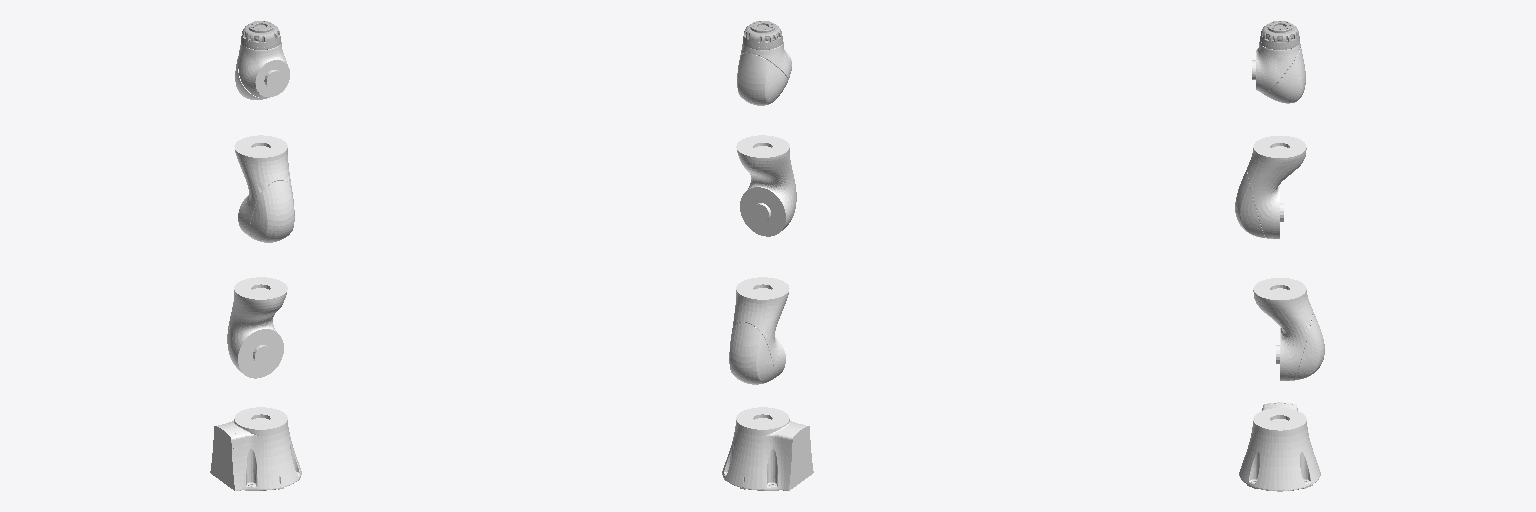
robot.urdf — iiwa7_3:
<?xml version="1.0" ?>
<!-- =================================================================================== -->
<!-- |    This document was autogenerated by xacro from iiwa7.urdf.xacro               | -->
<!-- |    EDITING THIS FILE BY HAND IS NOT RECOMMENDED                                 | -->
<!-- =================================================================================== -->
<robot name="iiwa7_3" xmlns:xacro="http://www.ros.org/wiki/xacro">
  <!-- Import Rviz colors -->
  <material name="Black">
    <color rgba="0.0 0.0 0.0 1.0"/>
  </material>
  <material name="Blue">
    <color rgba="0.0 0.0 0.8 1.0"/>
  </material>
  <material name="Green">
    <color rgba="0.0 0.8 0.0 1.0"/>
  </material>
  <material name="Grey">
    <color rgba="0.4 0.4 0.4 1.0"/>
  </material>
  <material name="Glas">
    <color rgba="0.4 0.4 0.4 0.1"/>
  </material>
  <material name="Orange">
    <color rgba="1.0 0.423529411765 0.0392156862745 1.0"/>
  </material>
  <material name="Brown">
    <color rgba="0.870588235294 0.811764705882 0.764705882353 1.0"/>
  </material>
  <material name="Red">
    <color rgba="0.8 0.0 0.0 1.0"/>
  </material>
  <material name="White">
    <color rgba="1.0 1.0 1.0 1.0"/>
  </material>
  <material name="Silver">
    <color rgba="0.82 0.82 0.82 1.0"/>
  </material>


  <link name="iiwa_link_0">
    <visual>
      <origin rpy="0 0 0" xyz="0 0 0"/>
      <geometry>
        <mesh filename="meshes/iiwa7_third/visual/link_0.obj"/>
      </geometry>
      <material name="White"/>
    </visual>
  </link>
  <!-- joint between link_0 and link_1 -->
  <joint name="iiwa_joint_1" type="fixed">
    <parent link="iiwa_link_0"/>
    <child link="iiwa_link_1"/>
    <origin rpy="0 0 0" xyz="0 0 0.15"/>
    <axis xyz="0 0 1"/>
  </joint>
  <link name="iiwa_link_1">
    <visual>
      <origin rpy="0 0 0" xyz="0 0 0.0075"/>
      <geometry>
        <mesh filename="meshes/iiwa7_third/visual/link_1.obj"/>
      </geometry>
      <material name="White"/>
    </visual>
  </link>
  <joint name="iiwa_joint_2" type="fixed">
    <parent link="iiwa_link_1"/>
    <child link="iiwa_link_2"/>
    <origin rpy="1.57079632679   0 3.14159265359" xyz="0 0 0.19"/>
    <axis xyz="0 0 1"/>
  </joint>
  <link name="iiwa_link_2">

    <visual>
      <origin rpy="0 0 0" xyz="0 0 0"/>
      <geometry>
        <mesh filename="meshes/iiwa7_third/visual/link_2.obj"/>
      </geometry>
      <material name="White"/>
    </visual>
  </link>
  <joint name="iiwa_joint_3" type="fixed">
    <parent link="iiwa_link_2"/>
    <child link="iiwa_link_3"/>
    <origin rpy="1.57079632679 0 3.14159265359" xyz="0 0.21 0"/>
    <axis xyz="0 0 1"/>

  </joint>
  <link name="iiwa_link_3">
 
    <visual>
      <origin rpy="0 0 0" xyz="0 -0.00 -0.026"/>
      <geometry>
        <mesh filename="meshes/iiwa7_third/visual/link_3.obj"/>
      </geometry>
      <material name="White"/>
    </visual>
  </link>
  <joint name="iiwa_joint_4" type="fixed">
    <parent link="iiwa_link_3"/>
    <child link="iiwa_link_4"/>
    <origin rpy="1.57079632679 0 0" xyz="0 0 0.19"/>
    <axis xyz="0 0 1"/>

  </joint>
  <link name="iiwa_link_4">

    <visual>
      <origin rpy="0 0 0" xyz="0 0 0"/>
      <geometry>
        <mesh filename="meshes/iiwa7_third/visual/link_4.obj"/>
      </geometry>
      <material name="White"/>
    </visual>
  </link>
  <joint name="iiwa_joint_5" type="fixed">
    <parent link="iiwa_link_4"/>
    <child link="iiwa_link_5"/>
    <origin rpy="-1.57079632679 3.14159265359 0" xyz="0 0.21 0"/>
    <axis xyz="0 0 1"/>

  </joint>
  <link name="iiwa_link_5">
    <visual>
      <origin rpy="0 0 0" xyz="0 0 -0.026"/>
      <geometry>
        <mesh filename="meshes/iiwa7_third/visual/link_5.obj"/>
      </geometry>
      <material name="White"/>
    </visual>
  </link>
  <joint name="iiwa_joint_6" type="fixed">
    <parent link="iiwa_link_5"/>
    <child link="iiwa_link_6"/>
    <origin rpy="1.57079632679 0 0" xyz="0 0.06070 0.19"/>
    <axis xyz="0 0 1"/>

  </joint>
  <link name="iiwa_link_6">
      <!-- <inertial>
        <origin rpy="0 0 0" xyz="0 0 0"/>
        <mass value="300"/>
        <inertia ixx="0.02" ixy="0" ixz="0" iyy="0.01" iyz="0" izz="0.01"/>
      </inertial> -->
    <visual>
      <origin rpy="0 0 0" xyz="0 0 0"/>
      <geometry>
        <mesh filename="meshes/iiwa7_third/visual/link_6.obj"/>
      </geometry>
      <material name="White"/>
    </visual>
  </link>
  <joint name="iiwa_joint_7" type="fixed">
    <parent link="iiwa_link_6"/>
    <child link="iiwa_link_7"/>
    <origin rpy="-1.57079632679 3.14159265359 0" xyz="0 0.081 0.06070"/>
    <axis xyz="0 0 1"/>
  </joint> 
  <link name="iiwa_link_7">
    <inertial>
      <origin rpy="0 0 0" xyz="0 0 0.02"/>
      <mass value="0.3"/>
      <inertia ixx="0.001" ixy="0" ixz="0" iyy="0.001" iyz="0" izz="0.001"/>
    </inertial>

    <visual>
      <origin rpy="0 0 0" xyz="0 0 -0.0005"/>
      <geometry>
        <mesh filename="meshes/iiwa7_third/visual/link_7.obj"/>
      </geometry>
      <material name="Silver"/>
    </visual>
  </link>
  <joint name="iiwa_joint_ee" type="fixed">
    <parent link="iiwa_link_7"/>
    <child link="iiwa_link_ee_kuka"/>
    <origin rpy="3.14159265359 3.14159265359 3.14159265359" xyz="0 0 0.045"/>
    <axis xyz="0 0 1"/>
  </joint>
  <link name="iiwa_link_ee_kuka">
  </link>
  <joint name="tool0_joint" type="fixed">
    <parent link="iiwa_link_7"/>
    <child link="iiwa_link_ee"/>
    <origin rpy="0 -1.57079632679 0" xyz="0 0 0.045"/>
  </joint>
  <link name="iiwa_link_ee">
  </link>
  <frame link="iiwa_link_ee" name="iiwa_frame_ee" 
      rpy="3.141592653589793 -1.570796326794897 0" xyz="0 0 0"/>  

  <!-- <joint name="kuka_connector_joint" type="fixed">
    <parent link="iiwa_link_ee_kuka"/>
    <child link="kuka_connector"/>
    <origin rpy="0 0 0" xyz="0 0 0.2"/>
  </joint>
  <link name="kuka_connector">
    <visual>
      <origin rpy="0 0 0" xyz="0 0 0"/>
      <geometry>
        <mesh filename="../meshes/iiwa7_third/visual/kuka_connector.obj"/>
      </geometry>
      <material name="Blue"/>
    </visual>
  </link> -->

  <joint name="wsg_grab_point_joint" type="fixed">
    <parent link="iiwa_link_7"/>
    <child link="wsg_grab_point"/>
    <origin rpy="0 0 3.141592653589793" xyz="0 0 0.2"/>
  </joint>
  <link name="wsg_grab_point">
  </link>

  <joint name="wsg_grab_point2_joint" type="fixed">
    <parent link="iiwa_link_7"/>
    <child link="wsg_grab_point2"/>
    <origin rpy="0 0 3.141592653589793" xyz="0 0 0.225"/>
  </joint>
  <link name="wsg_grab_point2">
    <!-- <visual>
      <origin xyz="0 0 0" rpy="0 0 0" />
      <geometry>
        <mesh filename="../meshes/iiwa7_third/visual/link_0.obj"/>
      </geometry>
      <material name="Grey"/>
    </visual> -->
  </link>
    
  <!--Extensions -->
  <!-- Load Gazebo lib and set the robot namespace -->
  <gazebo>
    <plugin filename="libgazebo_ros_control.so" name="gazebo_ros_controller">
      <robotNamespace>/iiwa</robotNamespace>
    </plugin>
  </gazebo>
  <!-- Link0 -->
  <gazebo reference="iiwa_link_0">
    <material>Gazebo/Grey</material>
    <mu1>0.2</mu1>
    <mu2>0.2</mu2>
  </gazebo>
  <!-- Link1 -->
  <gazebo reference="iiwa_link_1">
    <material>Gazebo/Orange</material>
    <mu1>0.2</mu1>
    <mu2>0.2</mu2>
  </gazebo>
  <!-- Link2 -->
  <gazebo reference="iiwa_link_2">
    <material>Gazebo/Orange</material>
    <mu1>0.2</mu1>
    <mu2>0.2</mu2>
  </gazebo>
  <!-- Link3 -->
  <gazebo reference="iiwa_link_3">
    <material>Gazebo/Orange</material>
    <mu1>0.2</mu1>
    <mu2>0.2</mu2>
  </gazebo>
  <!-- Link4 -->
  <gazebo reference="iiwa_link_4">
    <material>Gazebo/Orange</material>
    <mu1>0.2</mu1>
    <mu2>0.2</mu2>
  </gazebo>
  <!-- Link5 -->
  <gazebo reference="iiwa_link_5">
    <material>Gazebo/Orange</material>
    <mu1>0.2</mu1>
    <mu2>0.2</mu2>
  </gazebo>
  <!-- Link6 -->
  <gazebo reference="iiwa_link_6">
    <material>Gazebo/Orange</material>
    <mu1>0.2</mu1>
    <mu2>0.2</mu2>
  </gazebo>
  <gazebo reference="iiwa_link_7">
    <material>Gazebo/Orange</material>
    <mu1>0.2</mu1>
    <mu2>0.2</mu2>
  </gazebo>
  <gazebo reference="kuka_connector">
    <material>Gazebo/Orange</material>
    <mu1>0.2</mu1>
    <mu2>0.2</mu2>
  </gazebo>
  <!-- Link7 -->
   <!-- <gazebo reference="iiwa_link_7">
    <material>Gazebo/Grey</material>
    <mu1>0.2</mu1>
    <mu2>0.2</mu2>
  </gazebo>  -->
 
</robot>

--- Facts derived from the render (not from the file) ---
The picture shows the robot from 3 angles, left to right: view 1: azimuth 30°, elevation 25°; view 2: azimuth 150°, elevation 25°; view 3: azimuth 270°, elevation 25°; orthographic projection.
Model iiwa7_3 with 12 links and 11 joints (11 fixed), rooted at iiwa_link_0, posed all joints at 0.
Links seen in each view (by area): view 1: iiwa_link_0, iiwa_link_4, iiwa_link_2, iiwa_link_6, iiwa_link_7; view 2: iiwa_link_0, iiwa_link_2, iiwa_link_4, iiwa_link_6, iiwa_link_7; view 3: iiwa_link_0, iiwa_link_4, iiwa_link_2, iiwa_link_6, iiwa_link_7.
Boxes of the visible links, x1,y1,x2,y2 form: iiwa_link_0: [210, 407, 301, 490]; iiwa_link_4: [234, 135, 294, 242]; iiwa_link_2: [227, 277, 287, 378]; iiwa_link_6: [235, 42, 289, 99]; iiwa_link_7: [241, 21, 280, 49]; iiwa_link_0: [722, 407, 813, 490]; iiwa_link_2: [729, 277, 789, 384]; iiwa_link_4: [736, 135, 796, 236]; iiwa_link_6: [737, 42, 791, 105]; iiwa_link_7: [743, 21, 782, 49]; iiwa_link_0: [1239, 402, 1320, 491]; iiwa_link_4: [1235, 136, 1306, 238]; iiwa_link_2: [1253, 278, 1324, 380]; iiwa_link_6: [1252, 41, 1305, 103]; iiwa_link_7: [1260, 21, 1299, 49].
Size in the robot's own frame: 0.2168 by 0.2288 by 1.27 metres.
5 mesh visuals loaded from 8 distinct referenced files (5 OBJ); not drawn: 3 (reference not matched to a file when rendering).